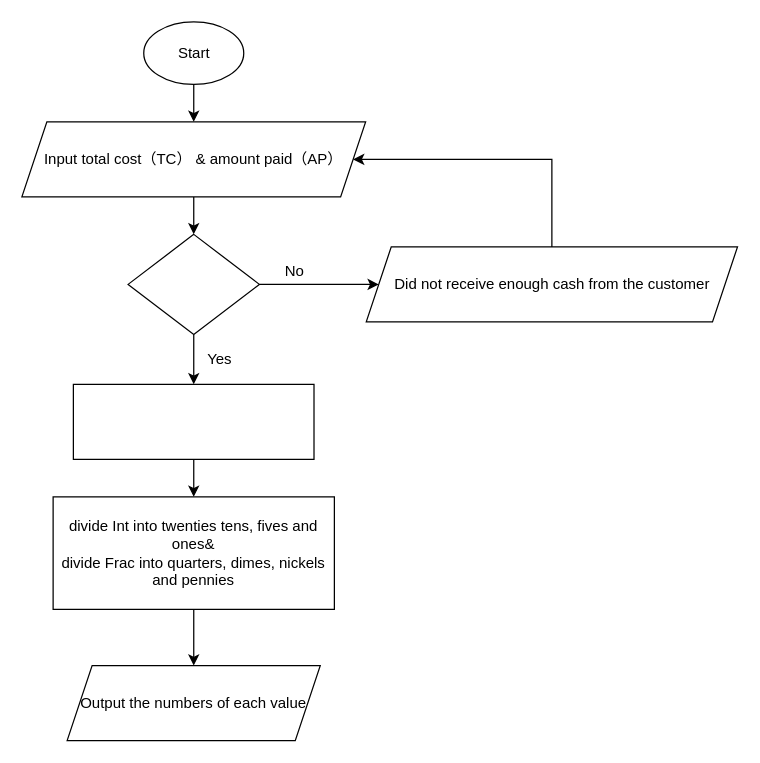
This 760x763 diagram has some shape labels left out. Here are the shapes that lost their labels. From the top down, the centre of each, then its label:
[193,283]: Is AP >= TC?
[193,421]: take the integer(Int) and fraction(Frac) part of (AP - TC)
